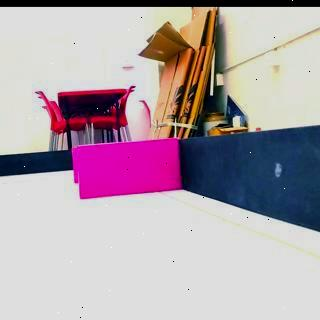xparking: (72, 137, 184, 200)
